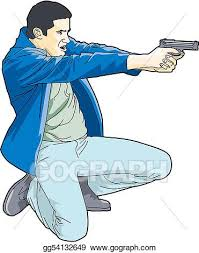gun: (157, 37, 199, 64)
